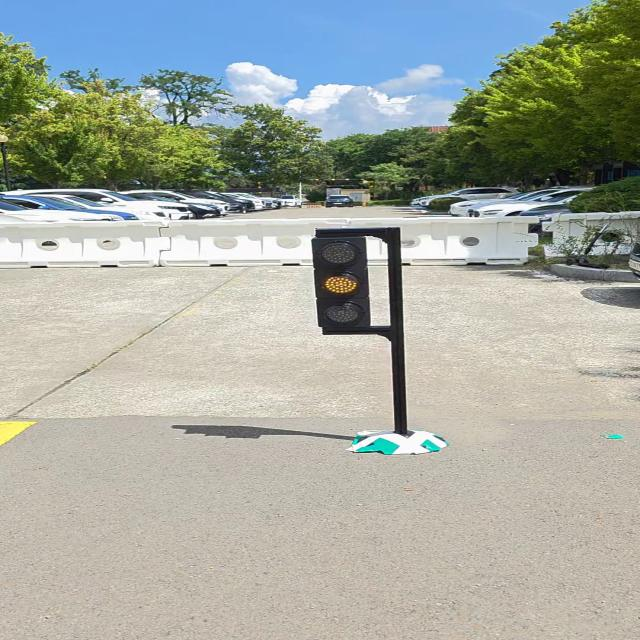yellow: (312, 236, 371, 330)
